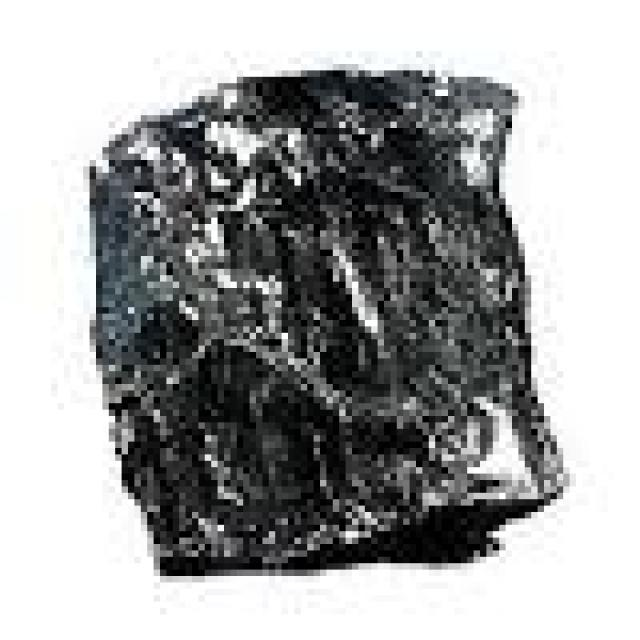Sedimentary: (70, 51, 602, 589)
